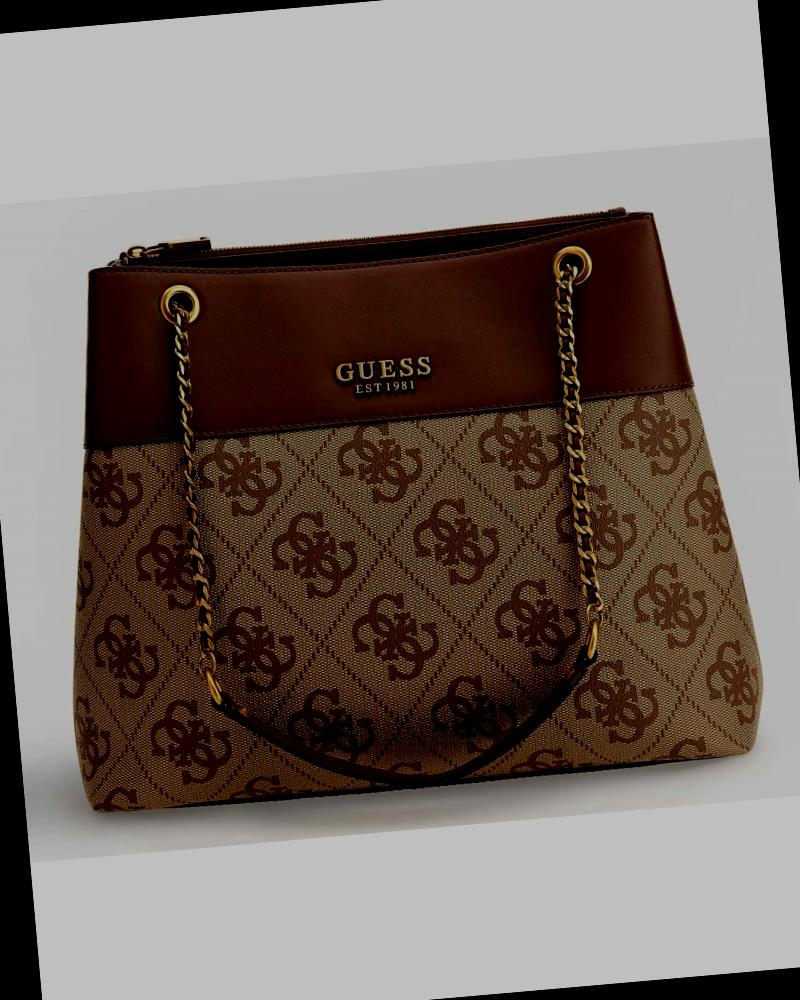GUESS: (334, 354, 432, 382)
